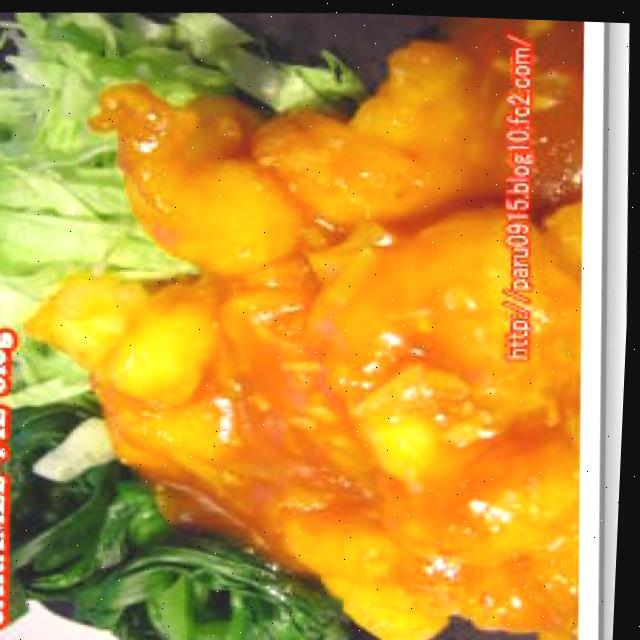熟制海鲜: (4, 1, 518, 640)
